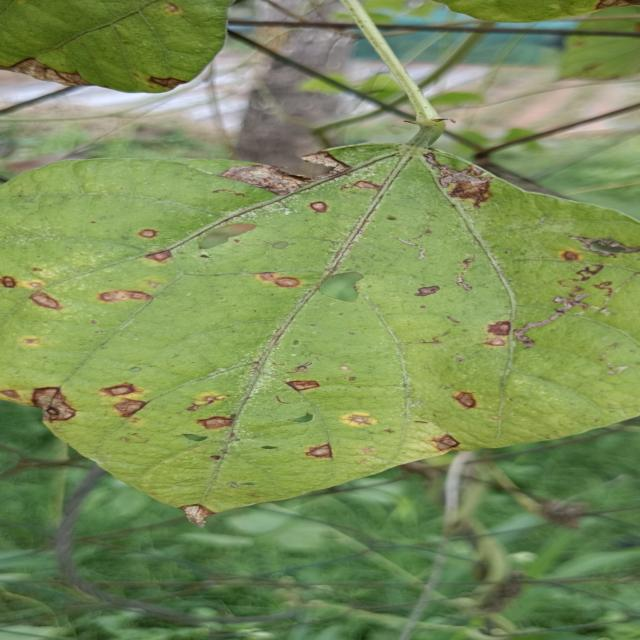Dolicos bean_cercospora leaf spot: (0, 140, 640, 521)
